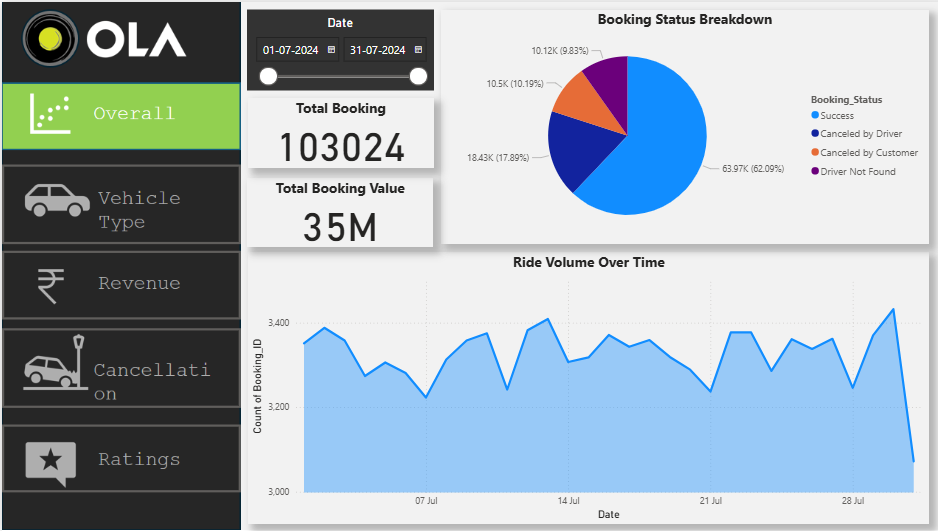

What the dashboard file says about the page in this screenshot:
{"tool":"powerbi","page":{"name":"Overall","canvas":[1280,720],"ordinal":0},"visuals":[{"type":"actionButton","box":[0,219.6,323.9,108],"z":0},{"type":"actionButton","box":[0,337.4,323.9,93.3],"z":1000},{"type":"actionButton","box":[0,442.9,323.9,108],"z":2000},{"type":"actionButton","box":[0,573,323.9,92],"z":3000},{"type":"lineChart","title":"Ride Volume Over Time","fields":{"Category":["July.Date"],"Y":["CountNonNull(July.Booking_ID)"]},"box":[333.8,338.2,923.5,369.1],"z":4000},{"type":"pieChart","title":"Booking Status Breakdown","fields":{"Category":["July.Booking_Status"],"Y":["CountNonNull(July.Booking_Status)"]},"box":[595.6,10.3,661.8,317.6],"z":5000},{"type":"card","title":"Total Booking","fields":{"Values":["Count(July.Booking_ID)"]},"box":[333.8,130.9,251.5,94.1],"z":6000},{"type":"card","title":"Total Booking Value","fields":{"Values":["Sum(July.Booking_Value)"]},"box":[332.4,238.2,252.9,92.6],"z":7000},{"type":"slicer","title":"Date","fields":{"Values":["July.Date"]},"box":[332.4,10.3,252.9,108.8],"z":8000}]}

Visuals, with their boxes in screenshot pixels (x1, y1, x2, y2), scaled from the page's 1280x720 canvas onto the 938x531 screenshot:
actionButton: (0,162,237,242)
actionButton: (0,249,237,318)
actionButton: (0,327,237,406)
actionButton: (0,423,237,490)
"Ride Volume Over Time" lineChart: (245,249,921,522)
"Booking Status Breakdown" pieChart: (436,8,921,242)
"Total Booking" card: (245,97,429,166)
"Total Booking Value" card: (244,176,429,244)
"Date" slicer: (244,8,429,88)
